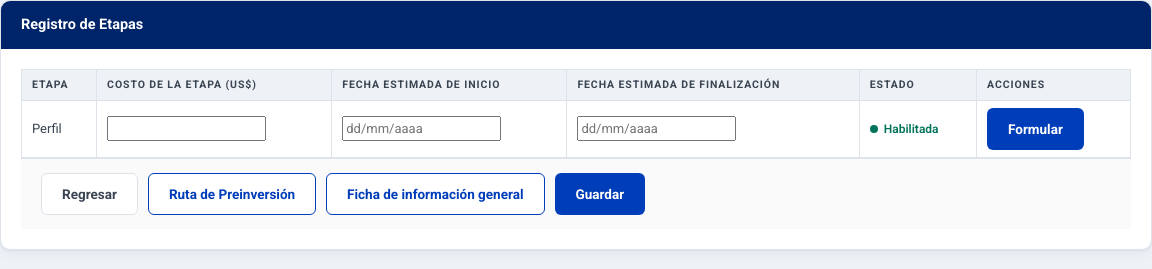
Test: EtapasPage › no permite guardar una fecha en un formato distinto de dd/mm/aaaa (RN04)
The image size is (1152, 269).
Expected: the text "Perfil" is shown, [22,100,97,157]
Type "2026-01-01" into the 1st field with placeholder "dd/mm/aaaa". click: (422, 129)
box: [342,116,501,141]
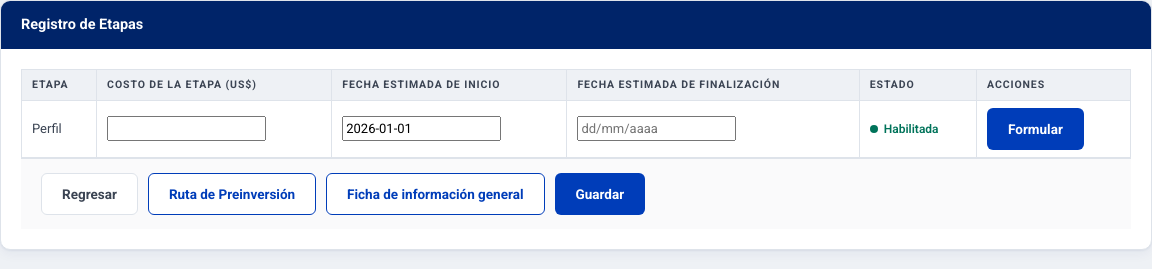
Click the button "Guardar". click: click(600, 194)
box: [554,173,645,215]
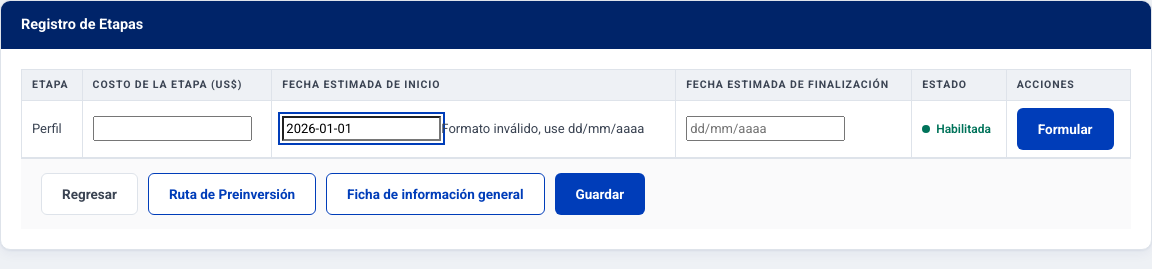
Now the text "Formato inválido, use dd/mm/aaaa" is shown, box [441,121,644,136]
